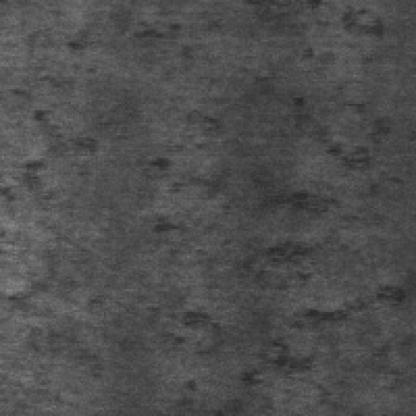rolled-in_scale: (167, 92, 394, 372)
